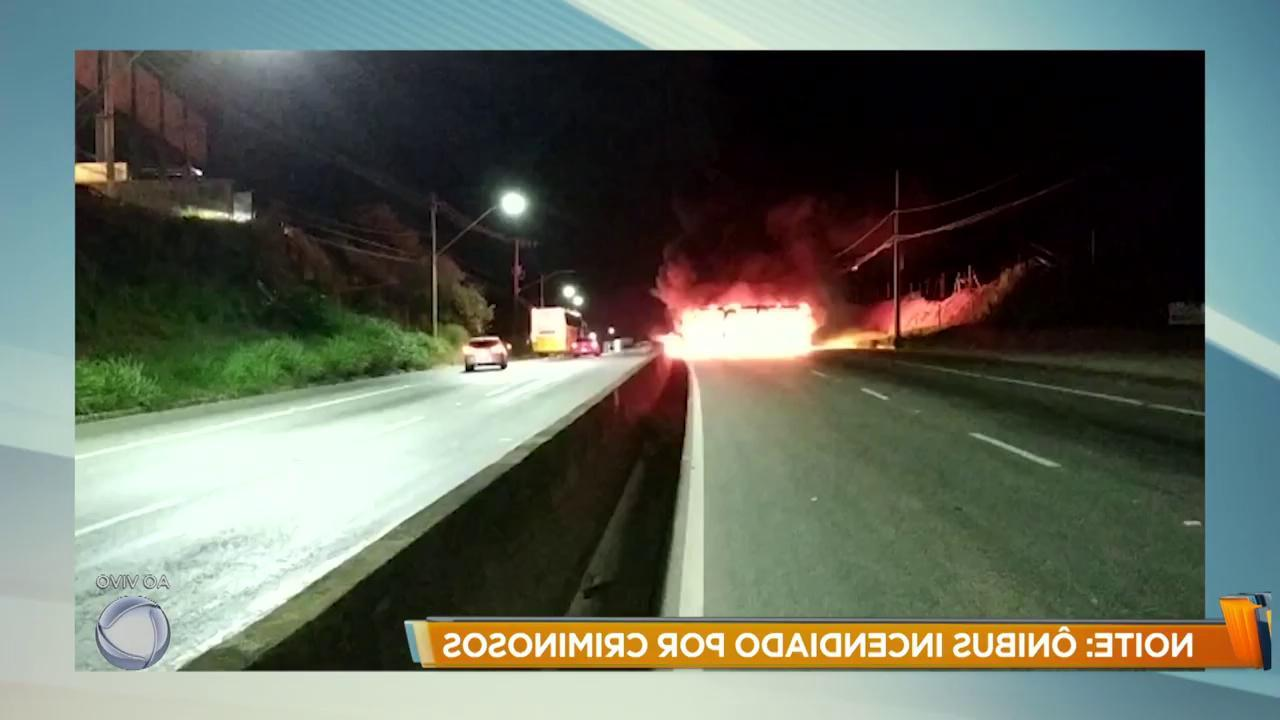Fire: (660, 296, 829, 359)
